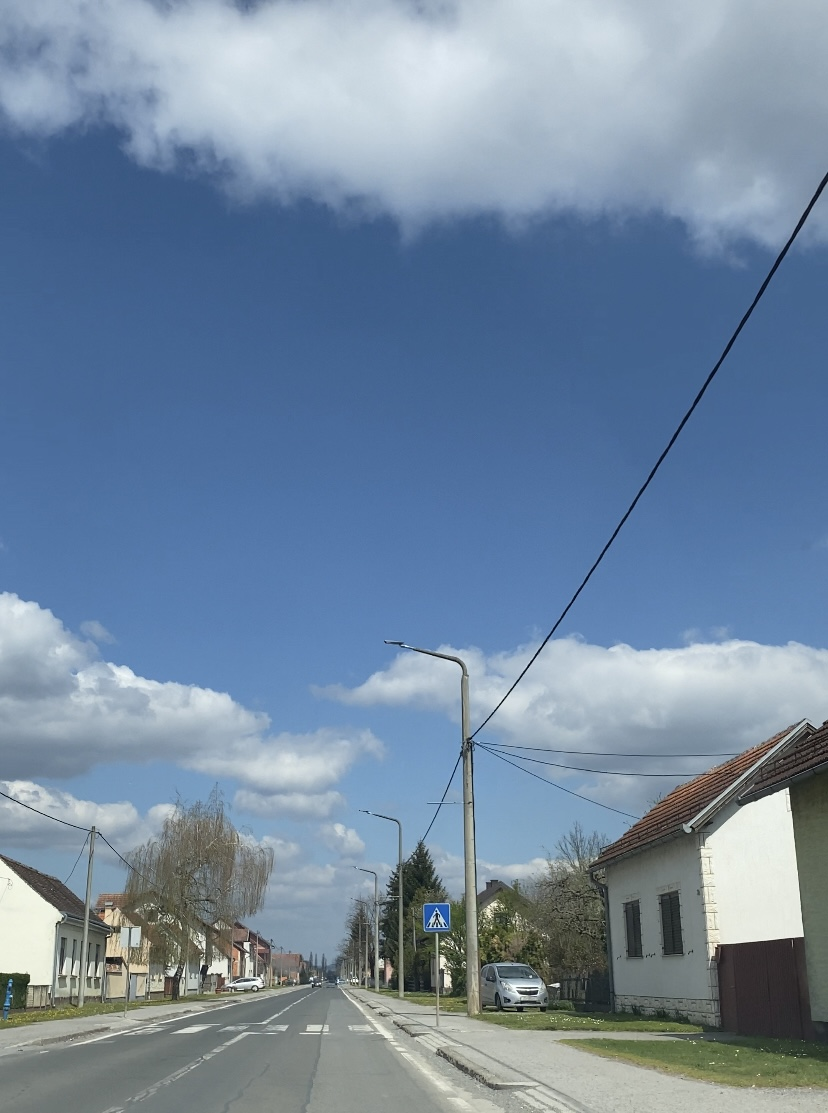Pješački prijelaz: (423, 903, 451, 932)
